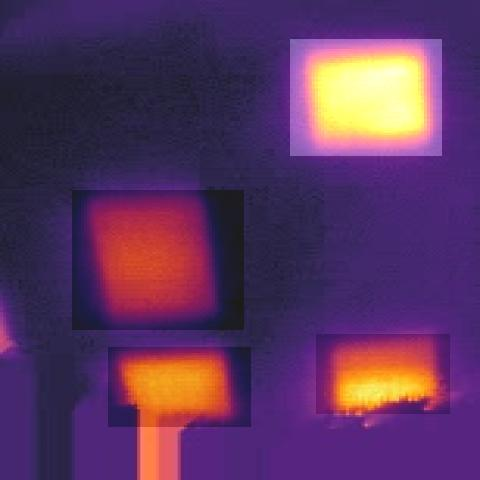fault: (72, 190, 244, 330), (290, 39, 442, 156), (108, 347, 251, 428), (316, 334, 450, 414)
